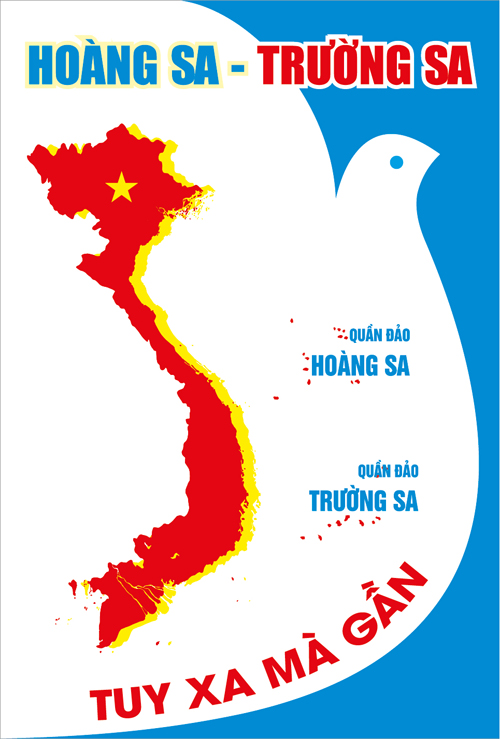Island: (263, 291, 413, 424), (293, 458, 427, 542)
